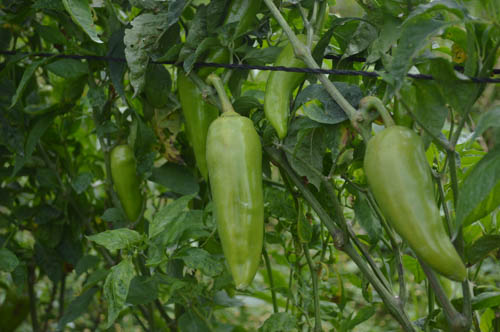ChiliPepper: (364, 127, 468, 286), (204, 115, 263, 294), (261, 37, 314, 142), (179, 65, 213, 179), (110, 145, 143, 222)
